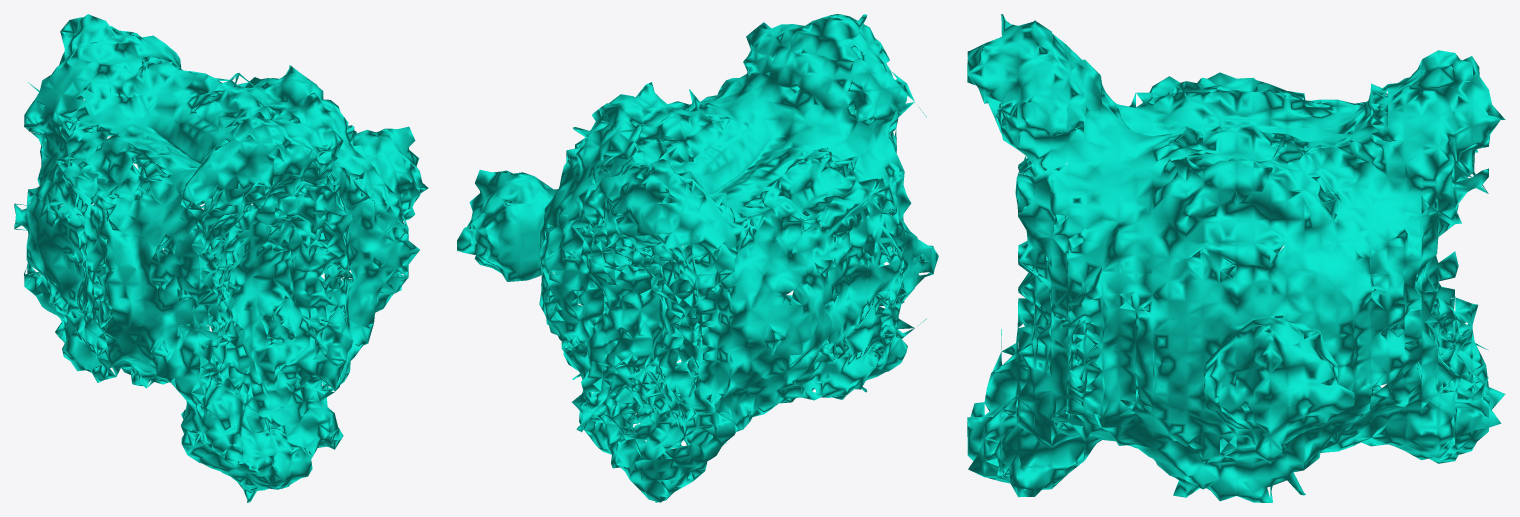
Rendered from ifs_mandelbulb_raymarched_mesh_1780767659252.glb.
3 renders of one model, left to right at view 1: azimuth 30°, elevation 25°; view 2: azimuth 150°, elevation 25°; view 3: azimuth 270°, elevation 25°, orthographic. The views are drawn at different scales.
Parts seen in each view (by area): view 1: mandelbulb_p2.8; view 2: mandelbulb_p2.8; view 3: mandelbulb_p2.8.
Boxes of the visible parts, x1=… form: mandelbulb_p2.8: x1=14, y1=14, x2=428, y2=502; mandelbulb_p2.8: x1=457, y1=14, x2=938, y2=502; mandelbulb_p2.8: x1=967, y1=14, x2=1505, y2=502.
Size of the model in its own units: 1.93 by 1.77 by 1.88.
